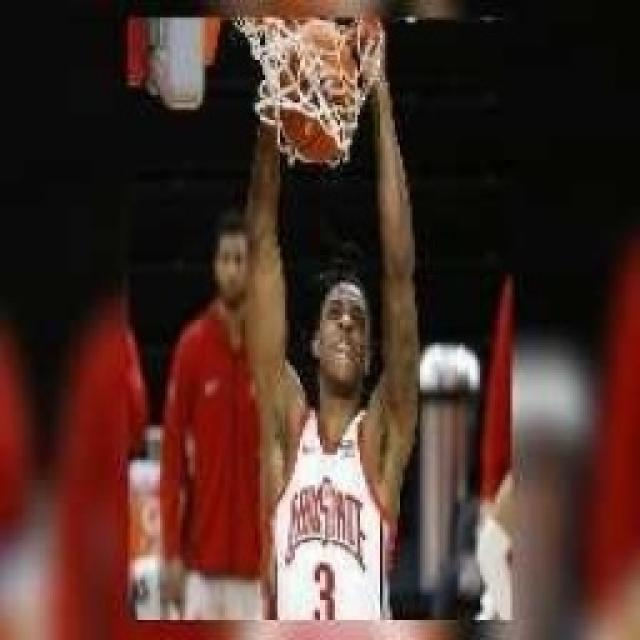rim: (276, 18, 368, 169)
